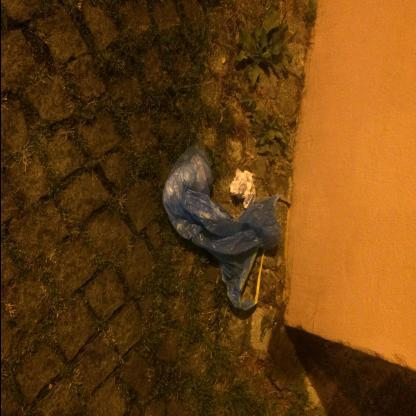kagit: (230, 169, 256, 210)
plastik: (163, 144, 281, 311)
